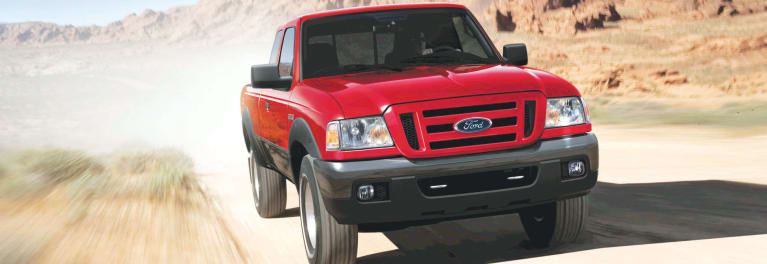Vehicle: (231, 3, 605, 264)
